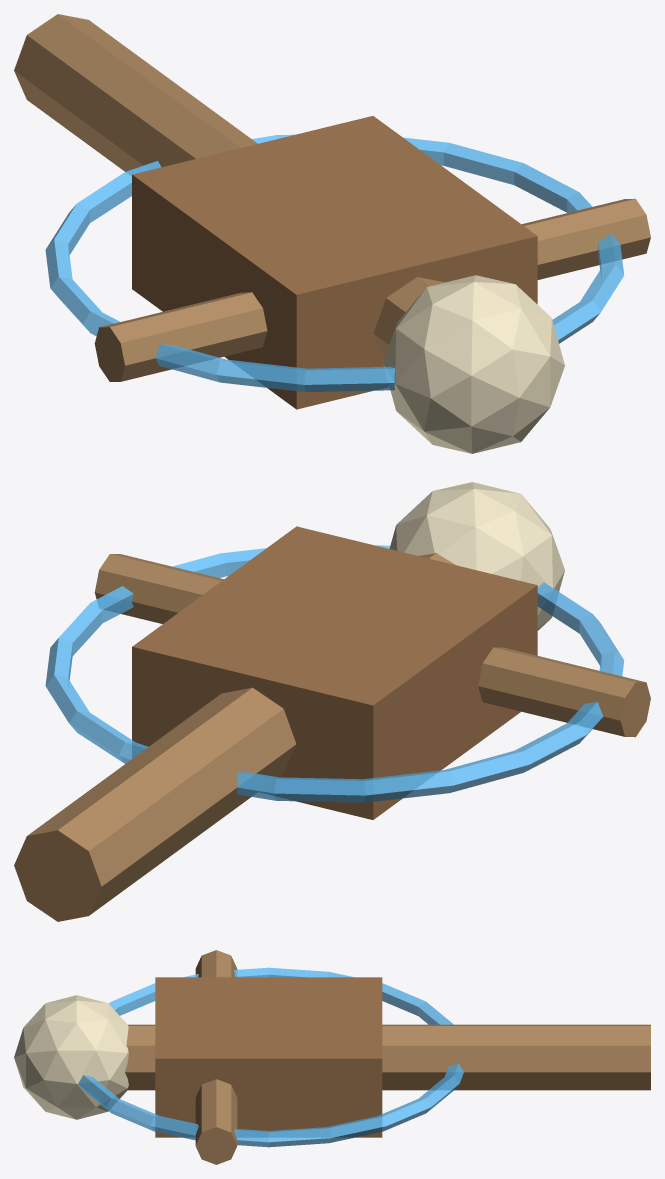
The model's file is heavy_slam_practice_plate.glb.
The picture shows the model from 3 angles, top to bottom: view 1: azimuth 30°, elevation 25°; view 2: azimuth 150°, elevation 25°; view 3: azimuth 270°, elevation 25°; orthographic projection. The views are drawn at different scales.
Visible parts, largest first — view 1: dummy_torso, dummy_head, dummy_post, timing_ring, arm_bar; view 2: dummy_torso, dummy_post, timing_ring, arm_bar, dummy_head; view 3: dummy_torso, dummy_post, dummy_head, timing_ring, arm_bar.
Boxes of the visible parts, box(x1,y1,x2,y2) form: dummy_torso: box(132, 116, 537, 409); dummy_head: box(383, 275, 564, 453); dummy_post: box(14, 14, 445, 358); timing_ring: box(45, 134, 624, 392); arm_bar: box(94, 198, 650, 381); dummy_torso: box(132, 526, 537, 819); dummy_post: box(14, 553, 455, 921); timing_ring: box(45, 545, 624, 802); arm_bar: box(94, 554, 650, 737); dummy_head: box(389, 482, 564, 630); dummy_torso: box(155, 977, 382, 1137); dummy_post: box(125, 1024, 650, 1090); dummy_head: box(14, 995, 128, 1119); timing_ring: box(78, 967, 463, 1147); arm_bar: box(195, 950, 237, 1164).
Size of the model in its own units: 1.2 by 0.36 by 1.83.
